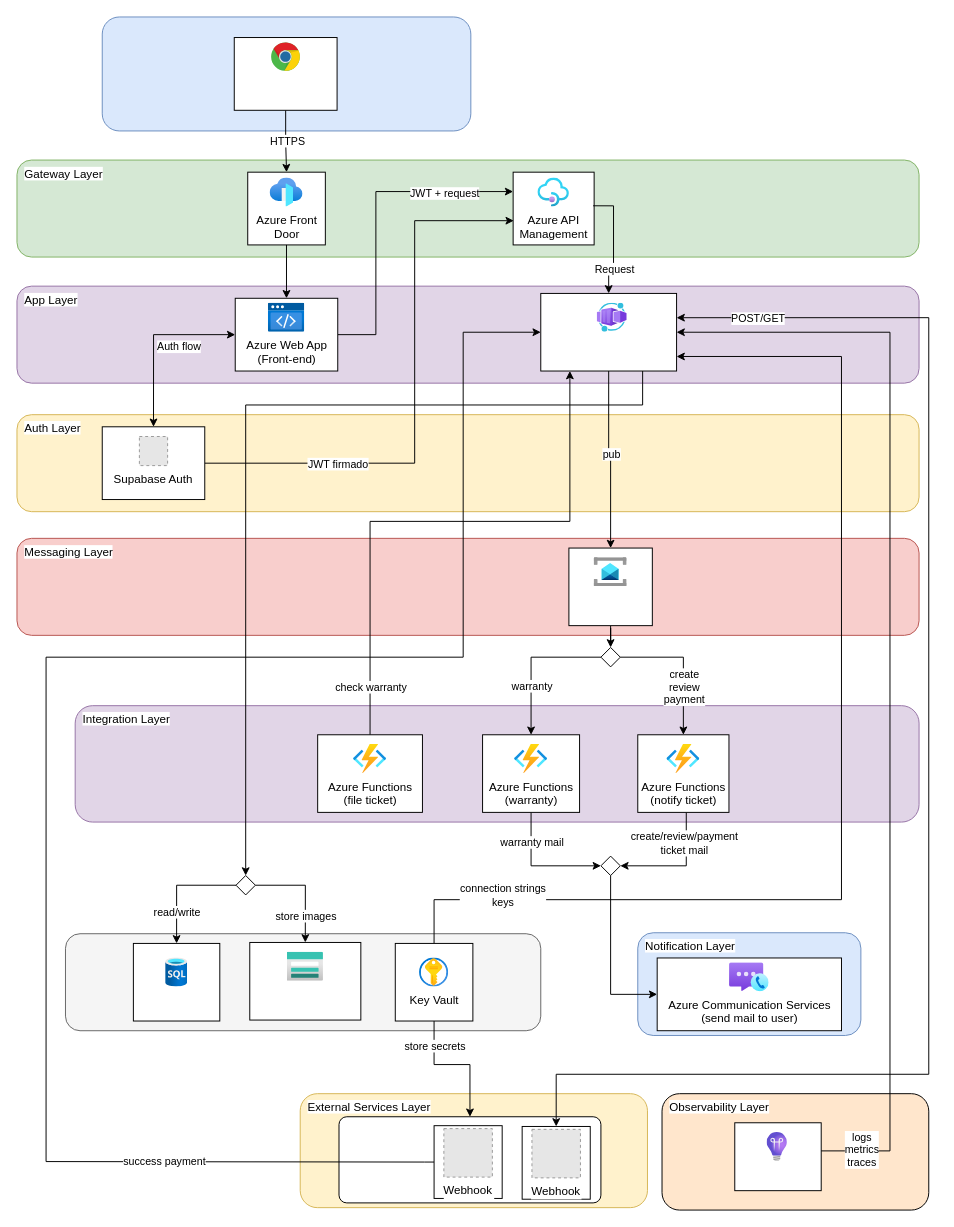
The diagram is 954 pixels wide and 1227 high, and some of its shapes have lost their labels. Grey dashed boxes stand in for pictures. The shapes that lost their labels are listed below. From the top down, each one's box as (x1, y1, x2, y2) in pixels, then its label:
(270, 41, 300, 71): Navegador (cliente/técnico)
(101, 16, 471, 131): Internet
(597, 303, 627, 332): Azure Container Apps (Back-end)
(594, 557, 627, 586): Azure Service Bus
(165, 957, 187, 987): SQL Database
(65, 933, 541, 1031): Data Layer
(287, 952, 323, 981): Azure Blob Storage (images)
(338, 1116, 601, 1203): Mercadopago
(767, 1132, 787, 1161): App Insights
